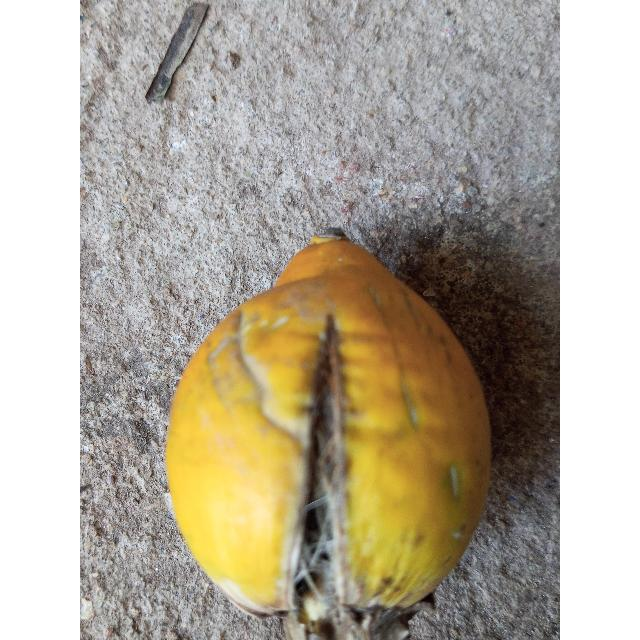damaged: (165, 237, 492, 640)
